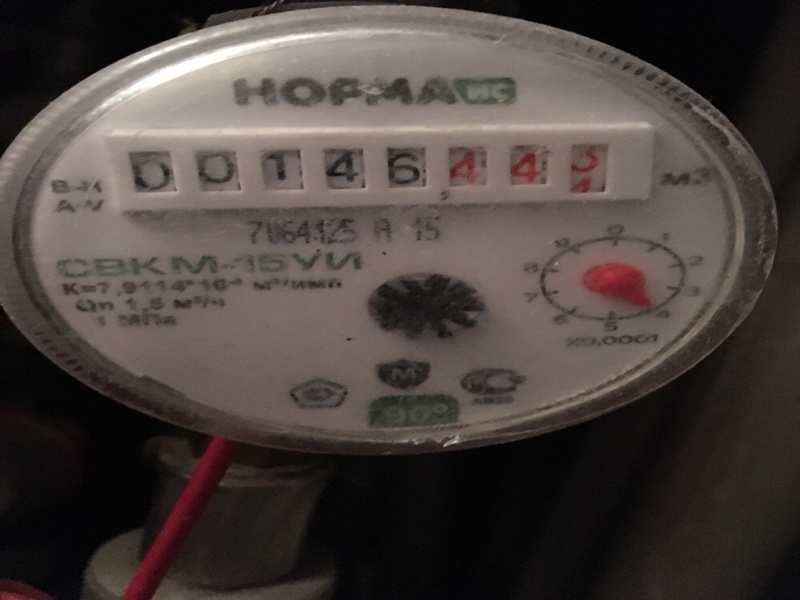meter: (112, 129, 652, 200)
